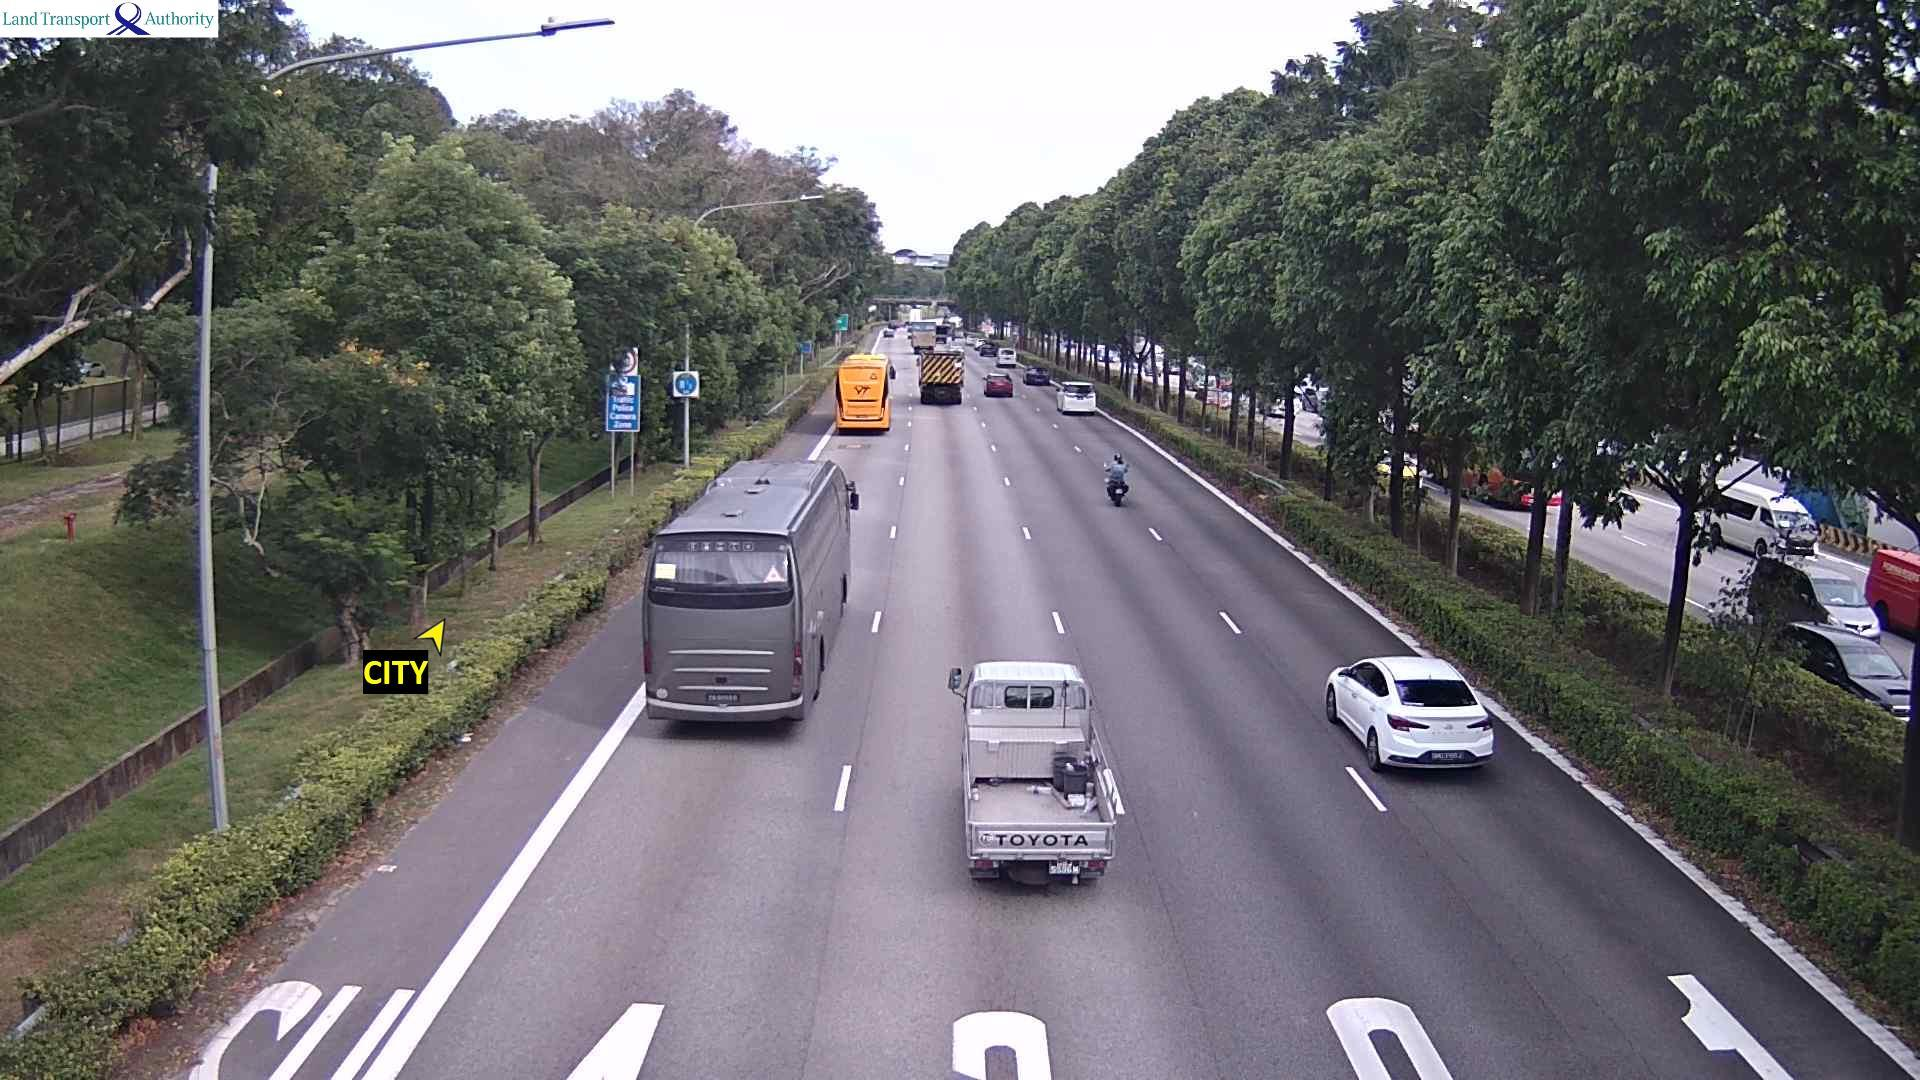incoming: (1820, 637, 1920, 728), (1795, 564, 1888, 641), (1742, 491, 1817, 555)
